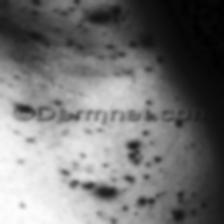Potentially Malignant Skin Tumors: (12, 128, 216, 224), (0, 0, 118, 42), (122, 32, 170, 86)
